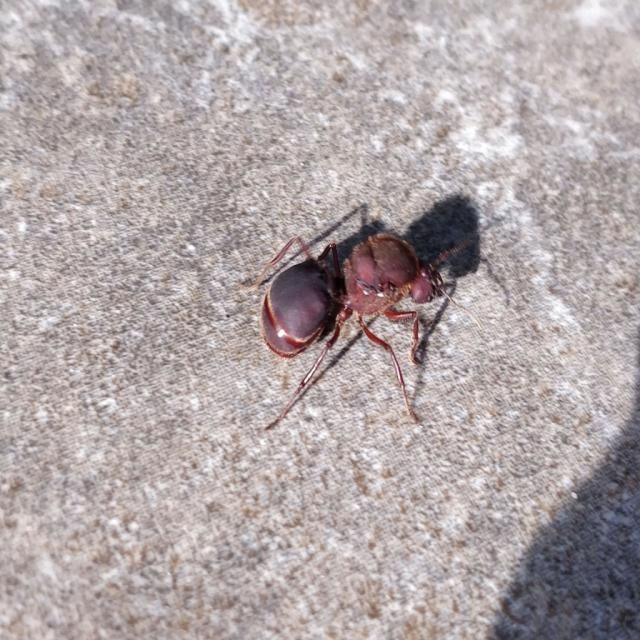Alive-Female-Dealate: (235, 232, 484, 432)
